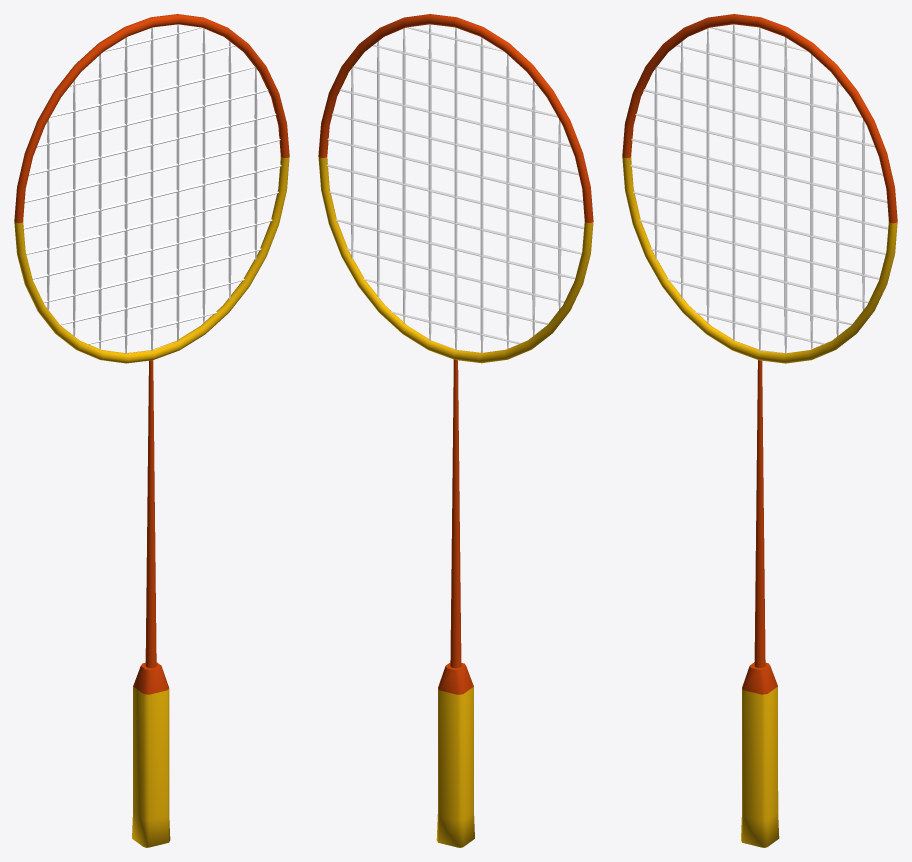
File: Racket_2a.fbx
The picture shows the model from 3 angles, left to right: view 1: azimuth 30°, elevation 25°; view 2: azimuth 150°, elevation 25°; view 3: azimuth 330°, elevation 25°; orthographic projection.
Parts seen in each view (by area): view 1: Racket_2a; view 2: Racket_2a; view 3: Racket_2a.
Part boxes in pixels (x1=…): Racket_2a: x1=14, y1=14, x2=289, y2=847; Racket_2a: x1=318, y1=14, x2=593, y2=847; Racket_2a: x1=622, y1=14, x2=897, y2=847.
Bounding box in the file's own units: 0.1711 × 0.4929 × 0.0168.
